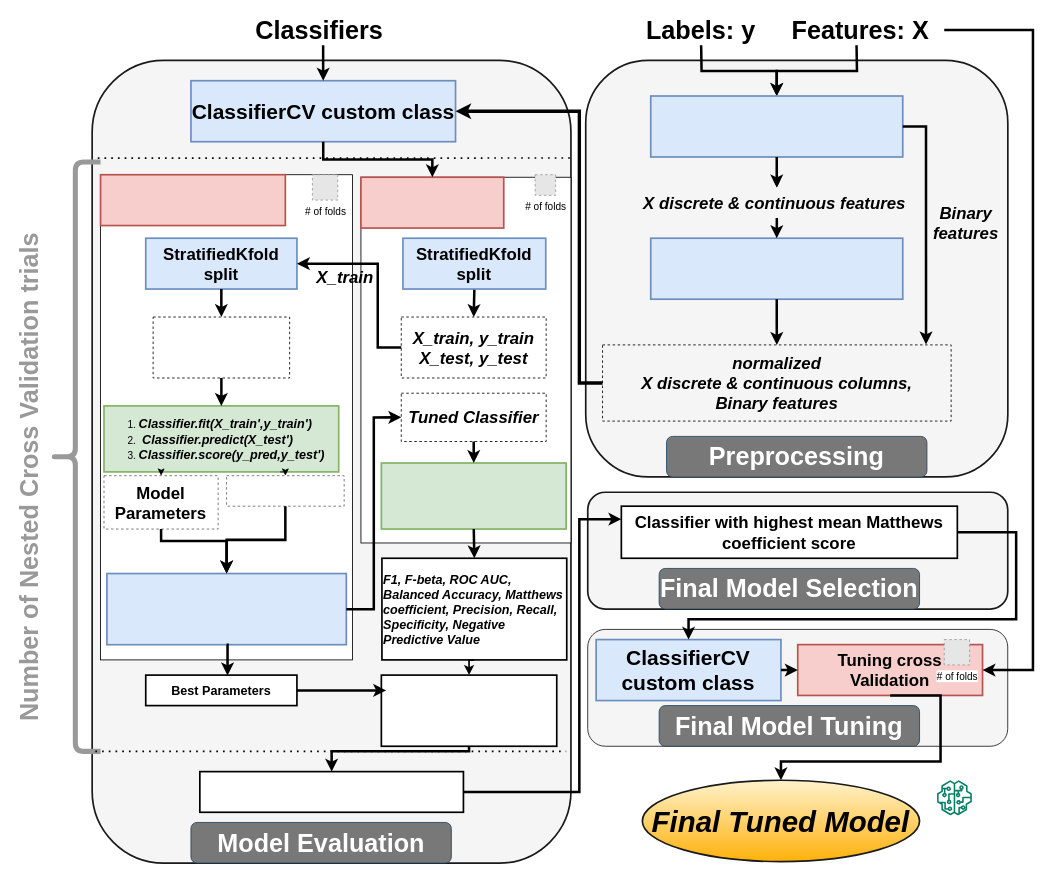
Image size: 1056x878. Some labels were removed from this diagram. Grey dashed boxes stand in for pictures. Each missing label, with the centre of its shape:
>>.predict(X_test) >>.score(y_pred,y_test): point 473,495
Bayesian Hyperparameter optimization to maximize F-beta score with optuna: point 226,608
Column Transformer: point 776,126
F-Beta score: point 285,490
Inner Tuning cross Validation: point 192,199
MinMax Scaler: point 776,268
Outer cross Validation: point 432,202
Store the results per Classifier: point 331,791
Store the results per nested cross validation trial: point 468,710
X_train', y_train' X_test', y_test': point 221,347
